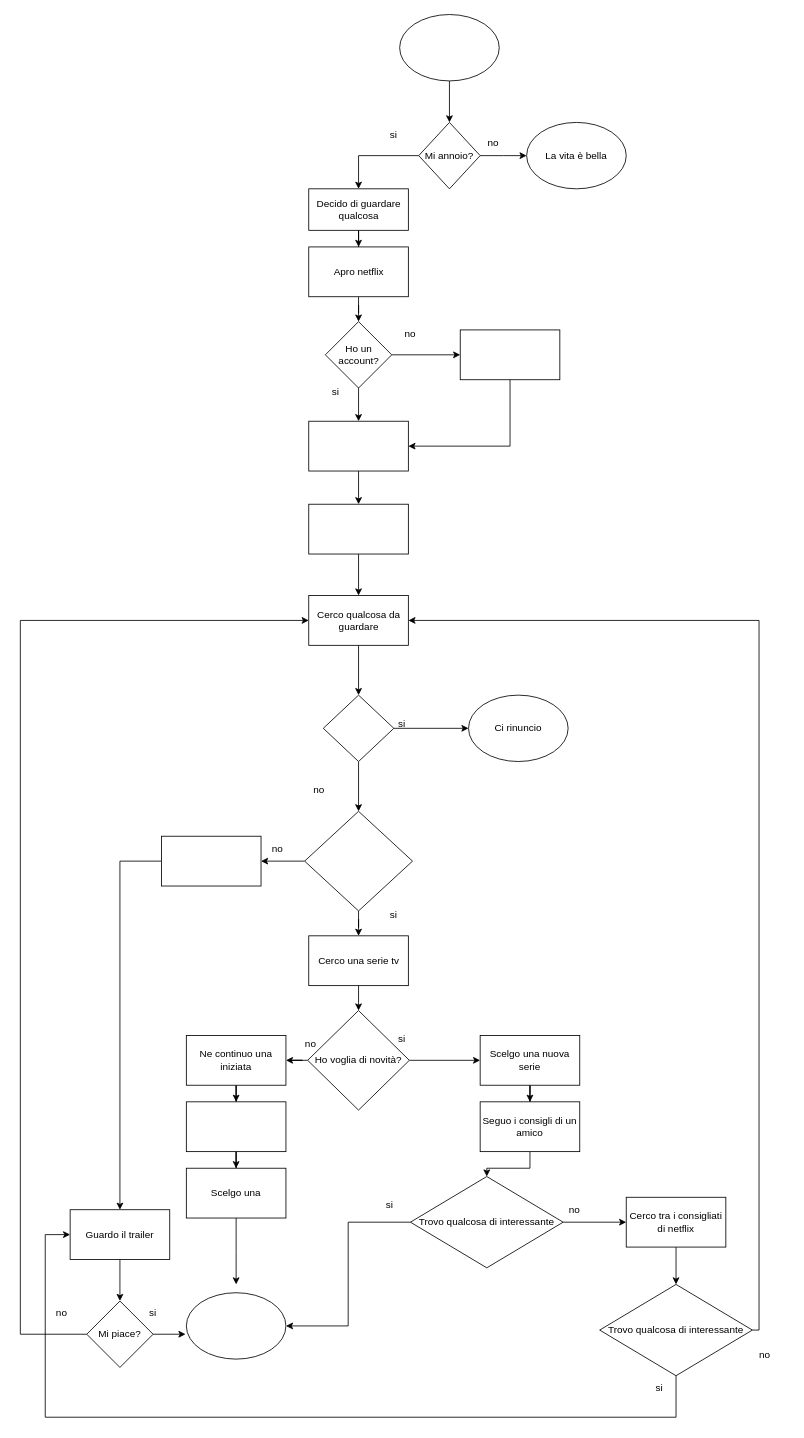
This 804x1438 diagram has some shape labels left out. Each missing label, with the centre of its shape:
"Cerco un film" belongs at point (211, 860).
"Controllo tra le serie cominciate" belongs at point (236, 1126).
"Creo un account" belongs at point (509, 354).
"Faccio il login" belongs at point (358, 445).
"Ho meno di un'ora libera" belongs at point (358, 860).
"La/lo guardo" belongs at point (236, 1325).
"Passata mezz'ora" belongs at point (358, 728).
"Seleziono un utente" belongs at point (358, 528).
"Sono a casa" belongs at point (449, 47).
